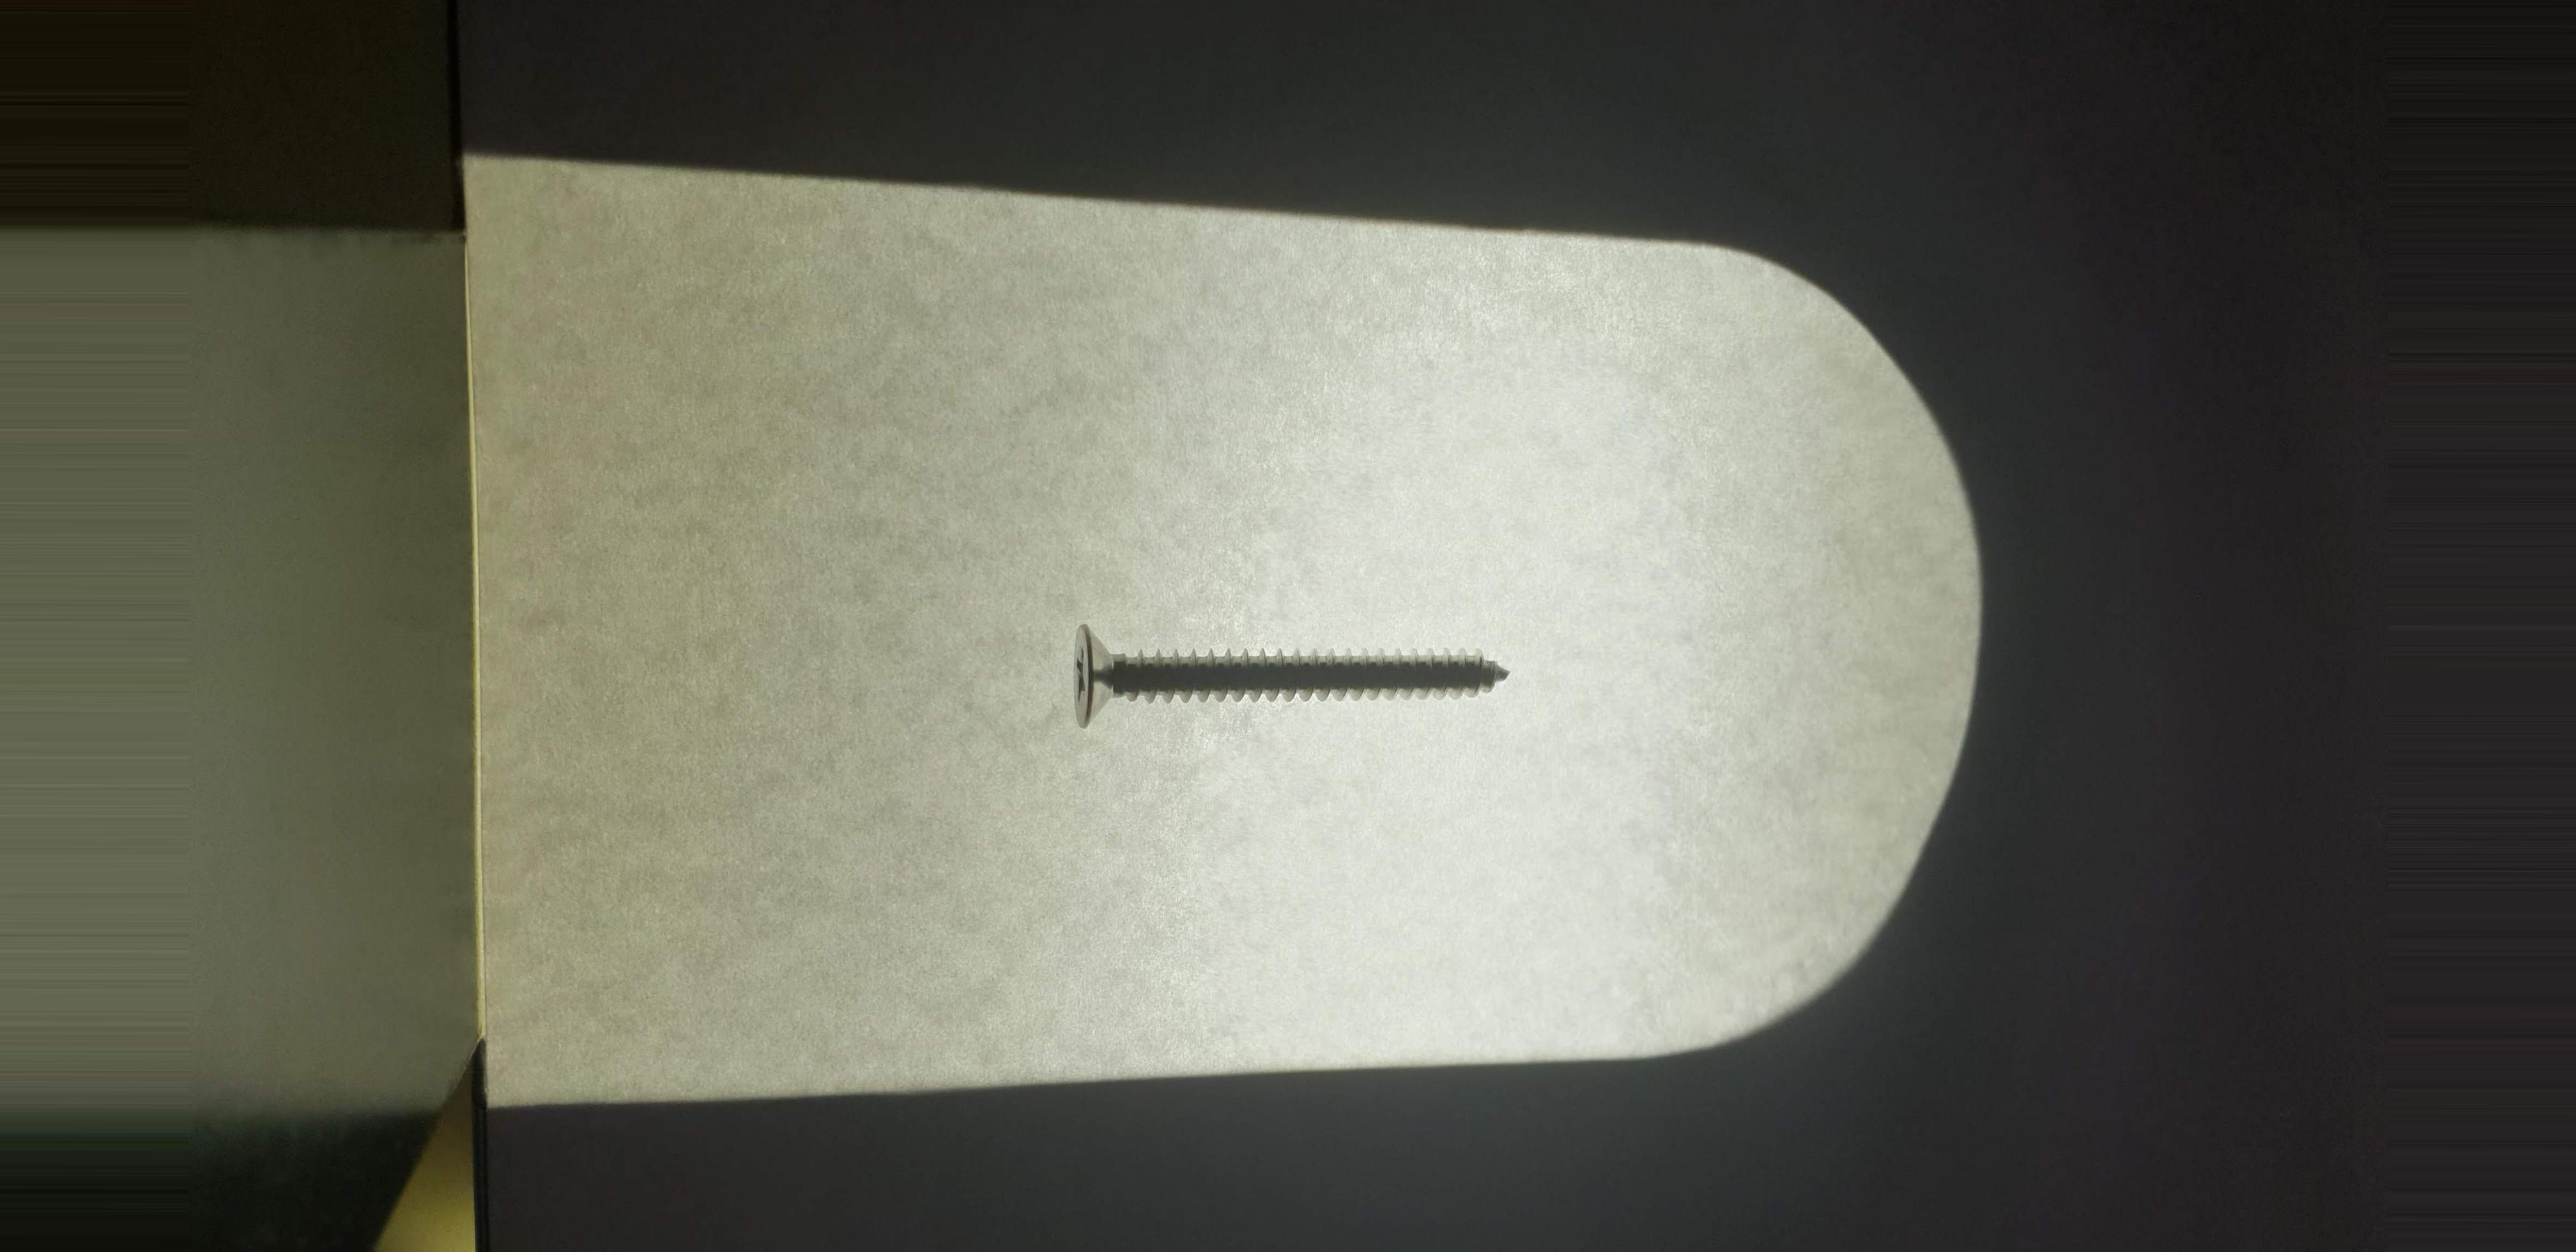S001: (1050, 601, 1538, 744)
